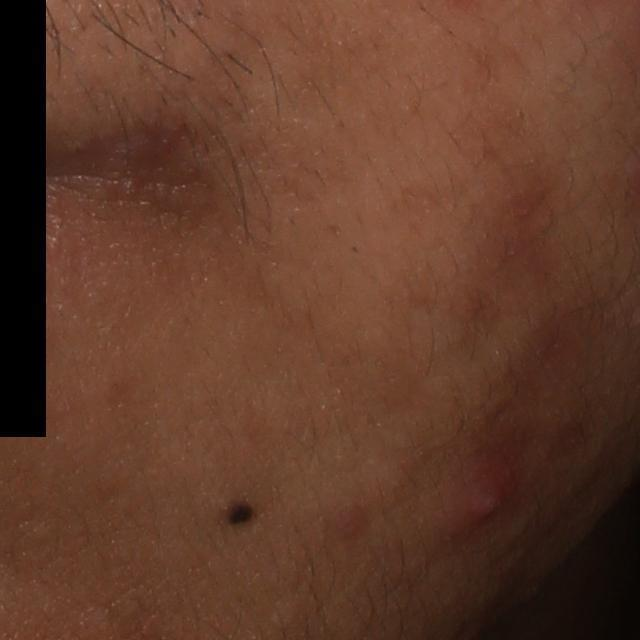atrophic_scar: (79, 129, 211, 222)
nevus: (218, 491, 255, 531)
pustule: (447, 456, 511, 525)
